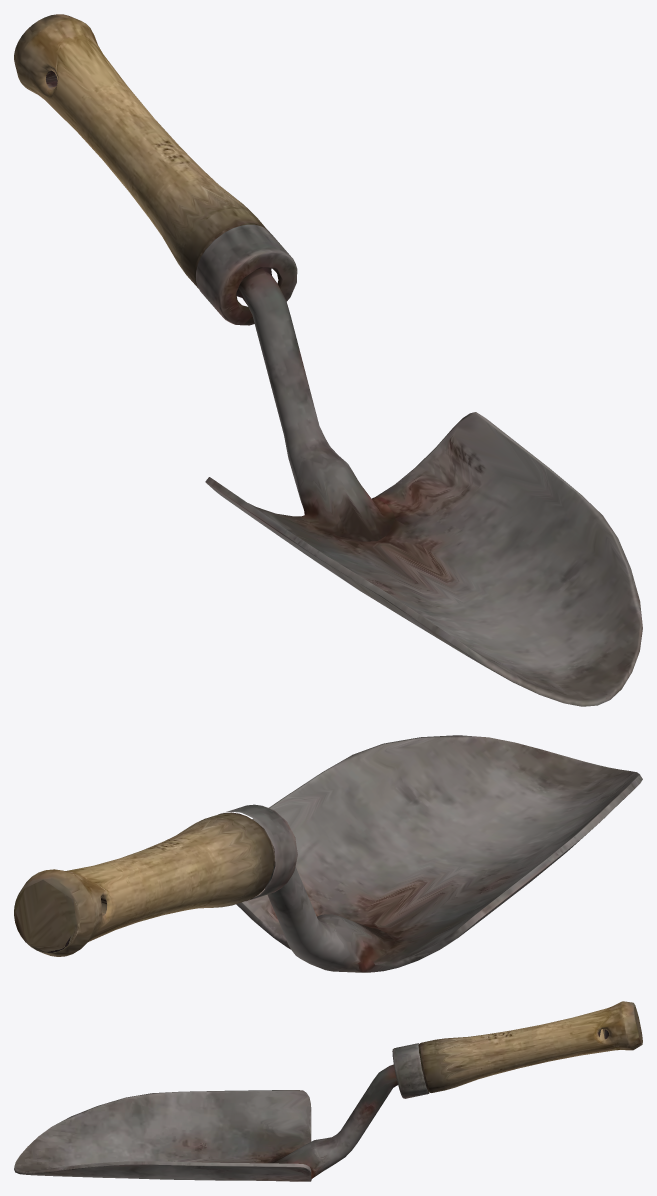
The model's file is trowel-01.glb.
3 renders of one model, top to bottom at view 1: azimuth 30°, elevation 25°; view 2: azimuth 150°, elevation 25°; view 3: azimuth 270°, elevation 25°, orthographic. The views are drawn at different scales.
Parts seen in each view (by area): view 1: trowel_01; view 2: trowel_01; view 3: trowel_01.
Boxes of the visible parts, x1,y1,x2,y2 form: trowel_01: (14,14,642,706); trowel_01: (14,735,642,972); trowel_01: (14,1001,642,1181).
Size of the model in its own units: 0.0991 by 0.1026 by 0.3468.
1 material, 1 textured.
